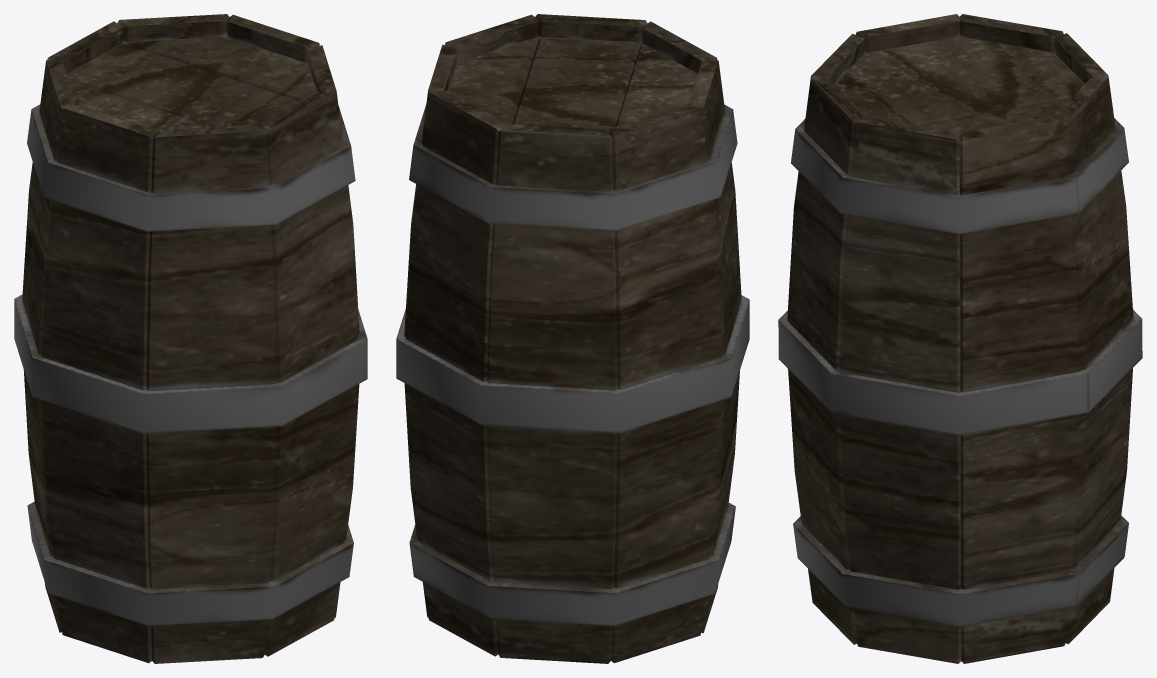
The model's file is tono.fbx.
3 views of the same model, side by side, from view 1: azimuth 30°, elevation 25°; view 2: azimuth 150°, elevation 25°; view 3: azimuth 270°, elevation 25° (orthographic).
Visible parts, largest first — view 1: Tonneau; view 2: Tonneau; view 3: Tonneau.
Part boxes in pixels (left/top/right/bottom): Tonneau: left=14, top=14, right=367, bottom=663; Tonneau: left=396, top=14, right=749, bottom=663; Tonneau: left=778, top=14, right=1142, bottom=663.
Bounding box in the file's own units: 49.89 × 79.41 × 49.9.
